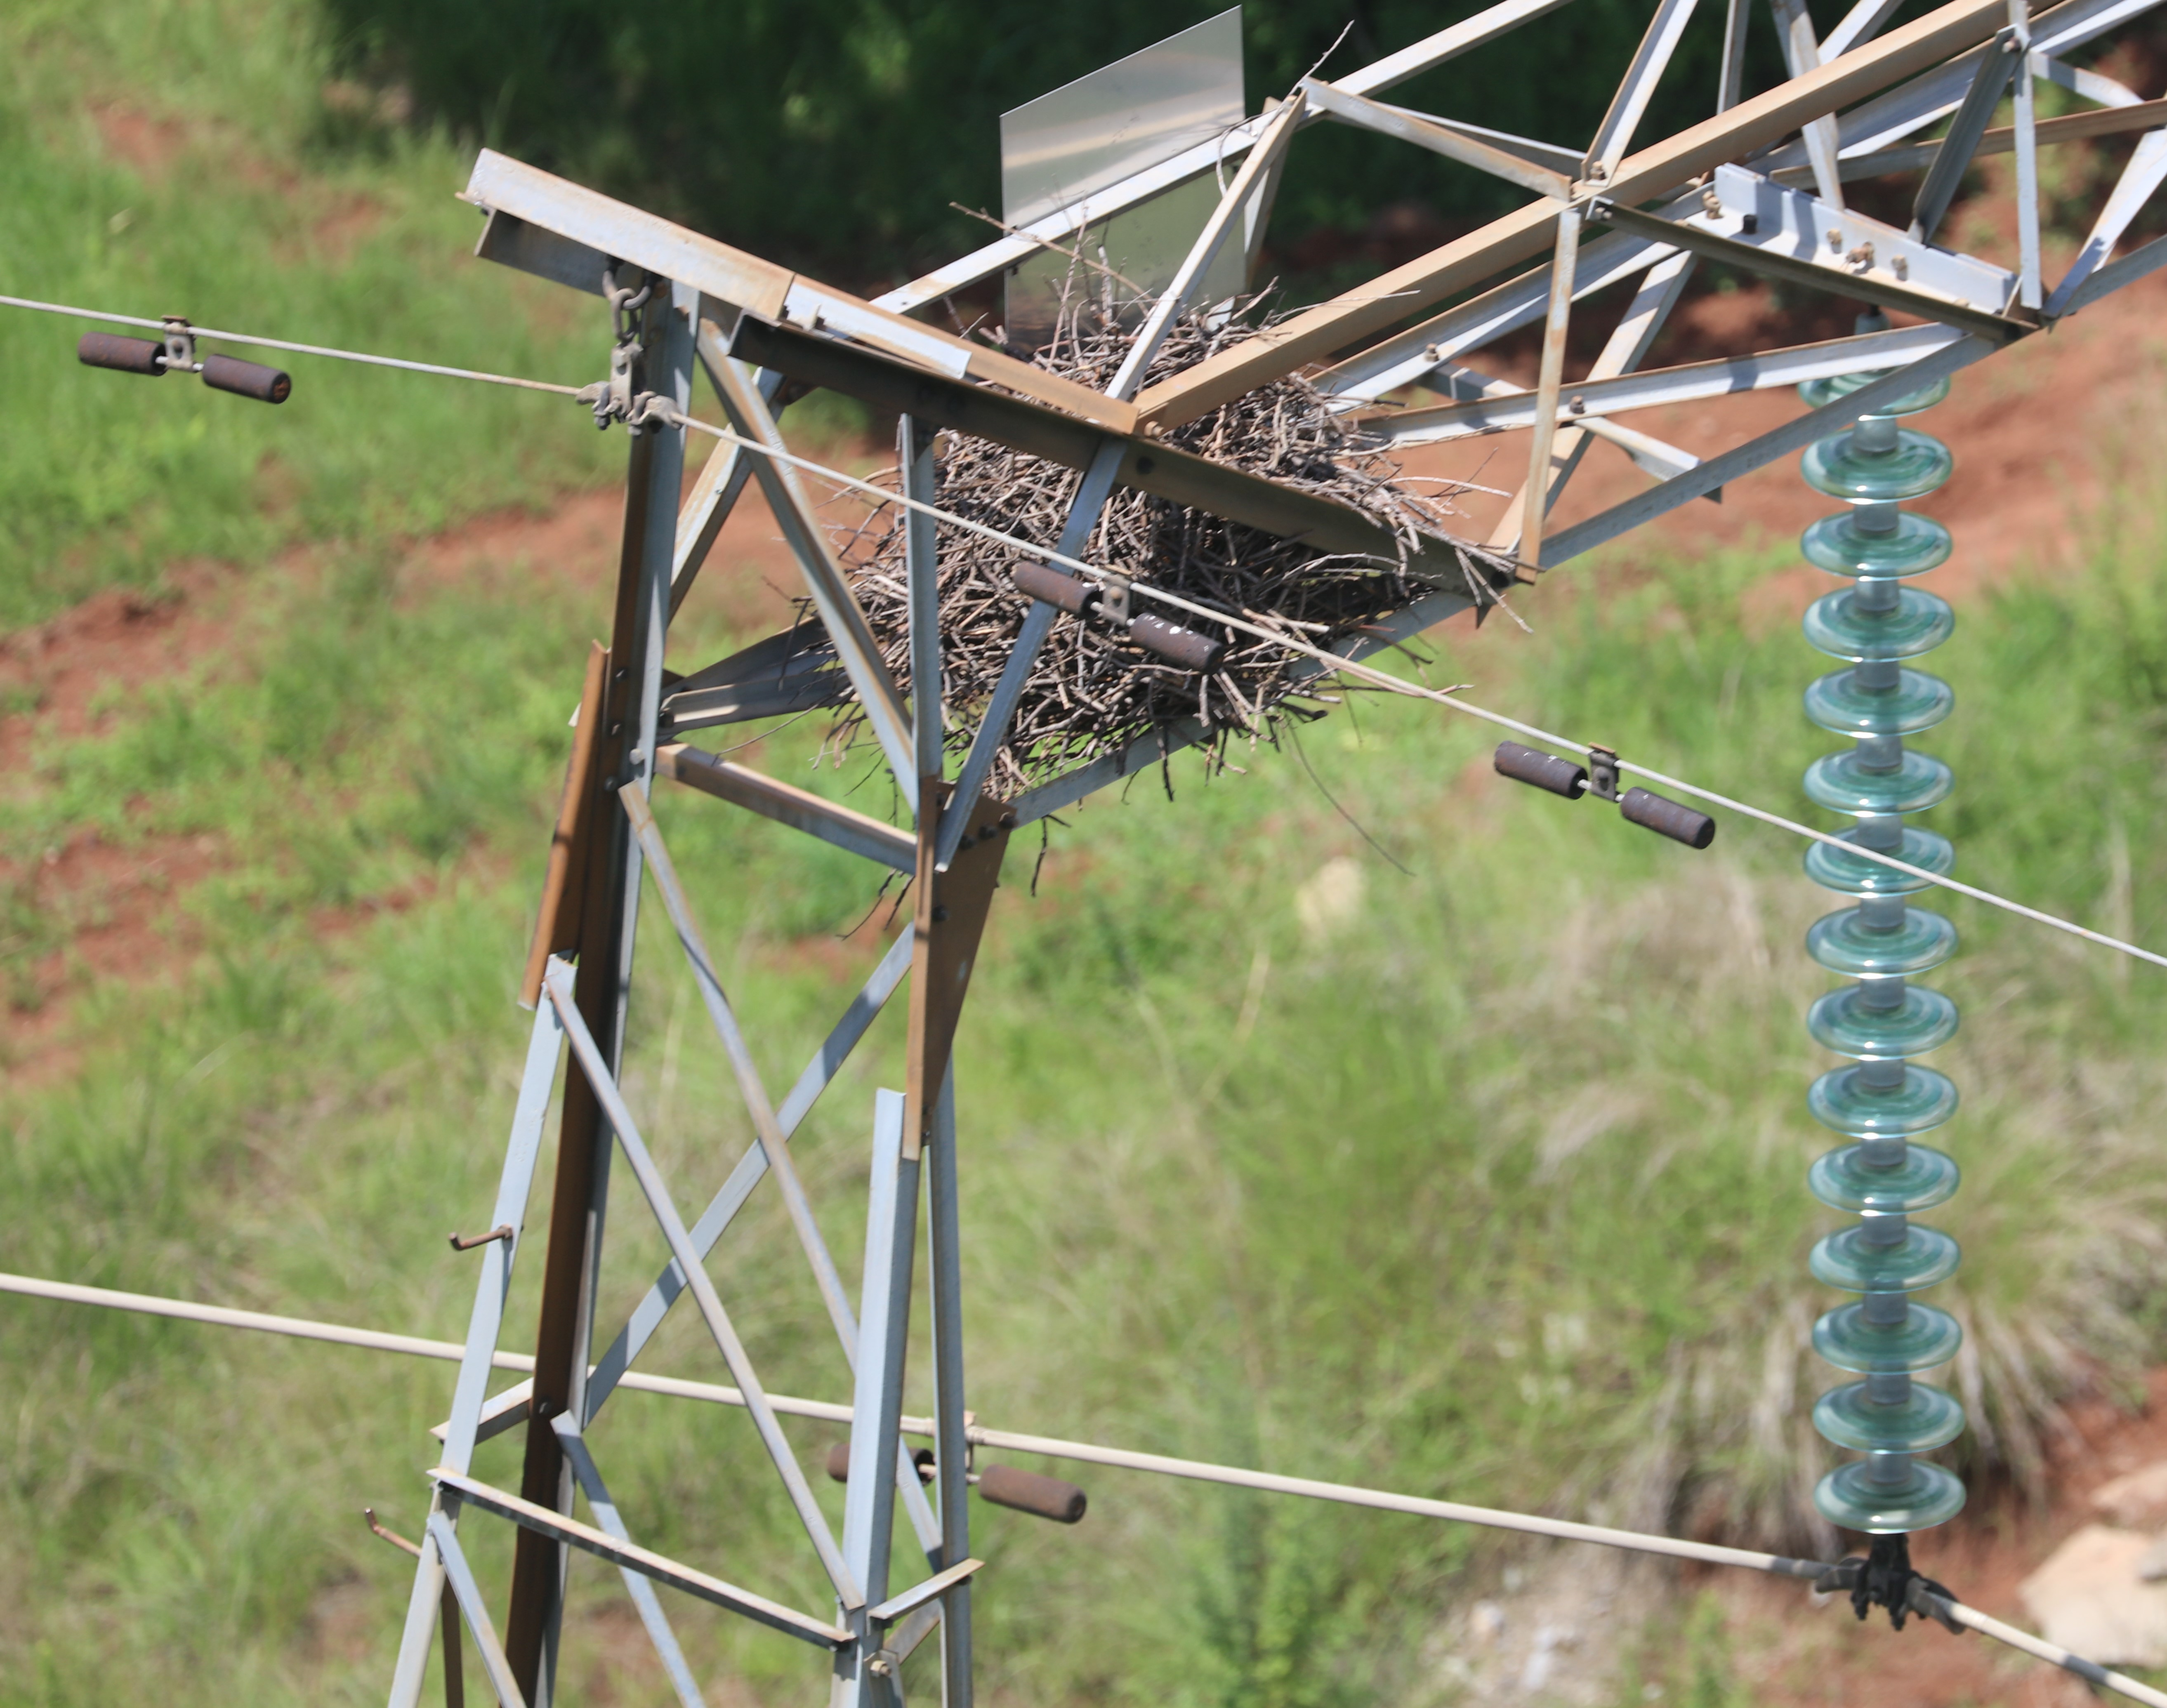niaowo: (818, 278, 1434, 783)
